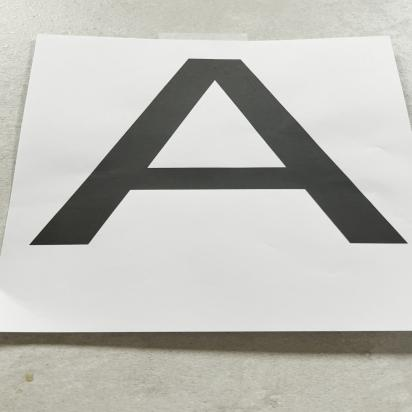seat: (26, 47, 412, 273), (47, 43, 412, 281)
